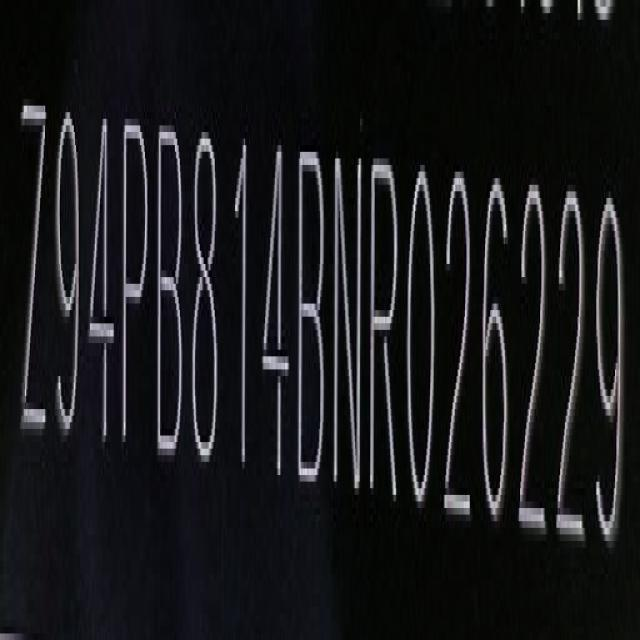0: (405, 162, 440, 518)
1: (233, 128, 252, 486)
2: (445, 169, 477, 532), (556, 185, 587, 554), (518, 177, 548, 548)
4: (261, 131, 292, 496), (88, 107, 118, 466)
6: (481, 170, 512, 536)
8: (192, 125, 223, 483)
9: (596, 191, 629, 557), (52, 104, 82, 458)
B: (298, 140, 330, 497), (156, 108, 187, 474)
N: (332, 147, 367, 506)
P: (120, 106, 151, 468)
R: (369, 151, 401, 513)
Z: (19, 92, 49, 457)
